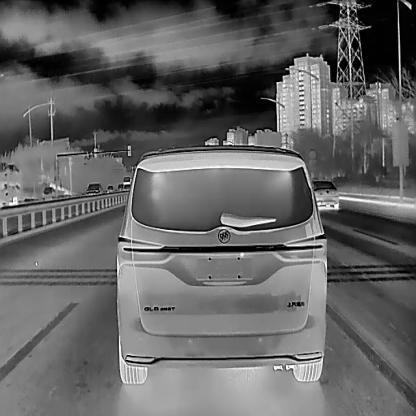car: (114, 145, 327, 384), (0, 158, 25, 206), (310, 179, 339, 210), (84, 180, 104, 195), (40, 186, 56, 201), (105, 183, 112, 192)
